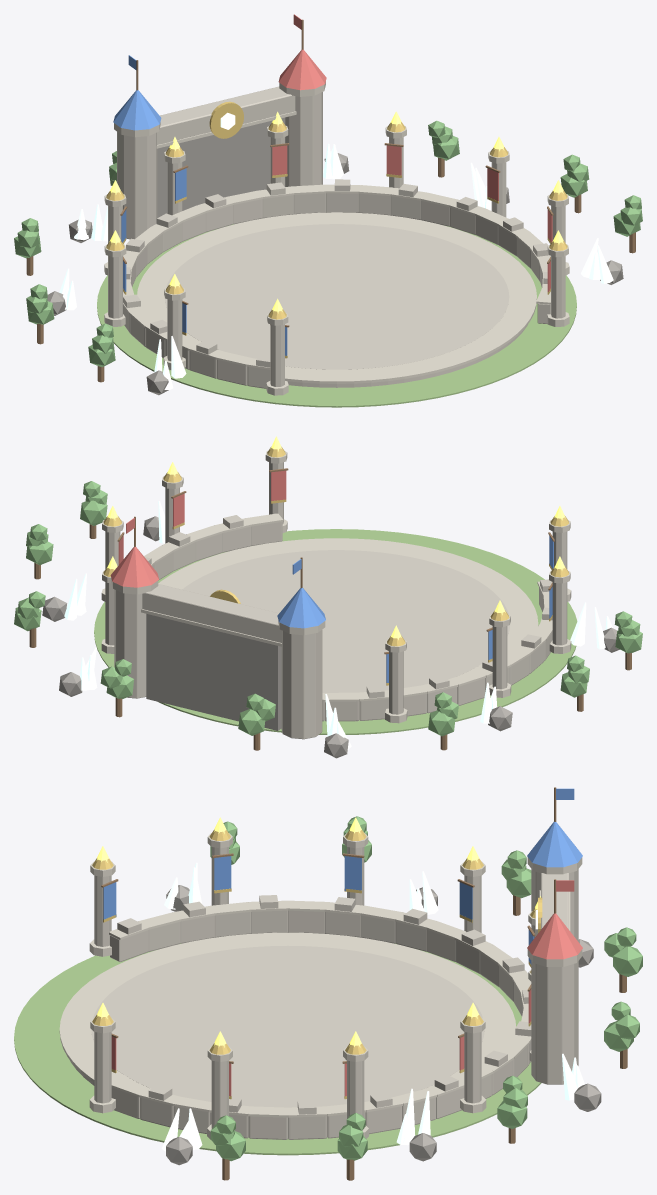
Rendered from env_colosseum.glb.
3 views of the same model, one above another, from view 1: azimuth 30°, elevation 25°; view 2: azimuth 150°, elevation 25°; view 3: azimuth 270°, elevation 25° (orthographic). The views are drawn at different scales.
Parts seen in each view (by area): view 1: stone, trim, grass_ring, stone_dark, leaf, crystal, cloth_b, gold, cloth_a, wood, fire; view 2: stone, trim, stone_dark, grass_ring, leaf, crystal, cloth_b, cloth_a, gold, wood, fire; view 3: stone, trim, grass_ring, leaf, cloth_a, crystal, stone_dark, cloth_b, gold, wood, fire.
Boxes of the visible parts, <box> form: stone: <box>108,86,565,388</box>; trim: <box>104,81,569,395</box>; grass_ring: <box>97,224,576,407</box>; stone_dark: <box>47,117,623,395</box>; leaf: <box>14,120,642,367</box>; crystal: <box>59,112,613,389</box>; cloth_b: <box>272,14,552,291</box>; gold: <box>106,101,567,358</box>; cloth_a: <box>113,55,287,355</box>; wood: <box>26,19,635,382</box>; fire: <box>109,111,563,313</box>; stone: <box>105,462,567,739</box>; trim: <box>101,451,571,723</box>; stone_dark: <box>42,516,619,758</box>; grass_ring: <box>94,529,577,734</box>; leaf: <box>14,481,642,736</box>; crystal: <box>64,501,612,749</box>; cloth_b: <box>110,470,286,587</box>; cloth_a: <box>277,536,553,682</box>; gold: <box>103,446,569,685</box>; wood: <box>29,468,631,750</box>; fire: <box>107,436,565,640</box>; stone: <box>70,847,578,1139</box>; trim: <box>59,833,582,1139</box>; grass_ring: <box>14,943,541,1155</box>; leaf: <box>210,816,642,1161</box>; cloth_a: <box>103,788,582,964</box>; crystal: <box>161,862,584,1151</box>; stone_dark: <box>166,885,601,1165</box>; cloth_b: <box>111,880,582,1096</box>; gold: <box>92,829,542,1099</box>; wood: <box>101,787,627,1180</box>; fire: <box>96,817,540,1047</box>.
Bounding box in the file's own units: 41.88 × 12.93 × 35.81.
